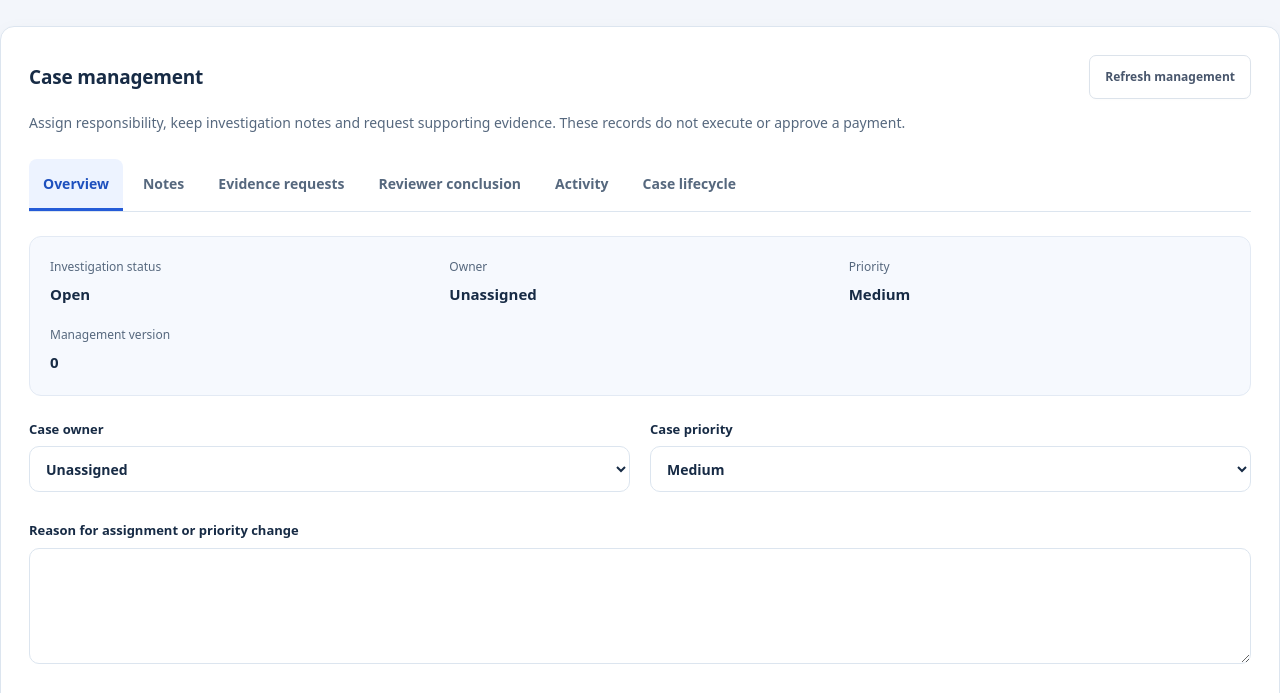
payment case management › requires a saved evidence version when fulfilling a request
Check: the text "Unassigned" is shown, box [449, 284, 537, 304]
Click the tab "Evidence requests". click: (281, 185)
box: [204, 159, 358, 211]
(page scrolled)
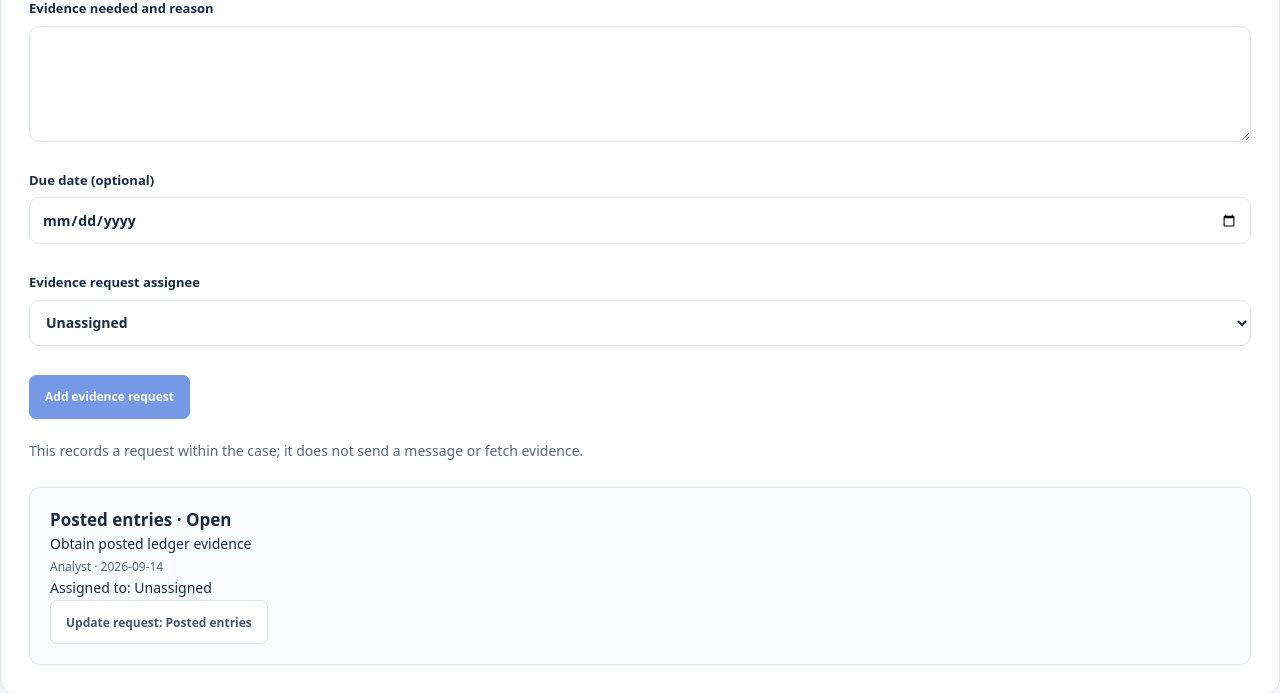
Click the button "Update request: Posted entries". click: (159, 622)
box: [50, 600, 268, 644]
(page scrolled)
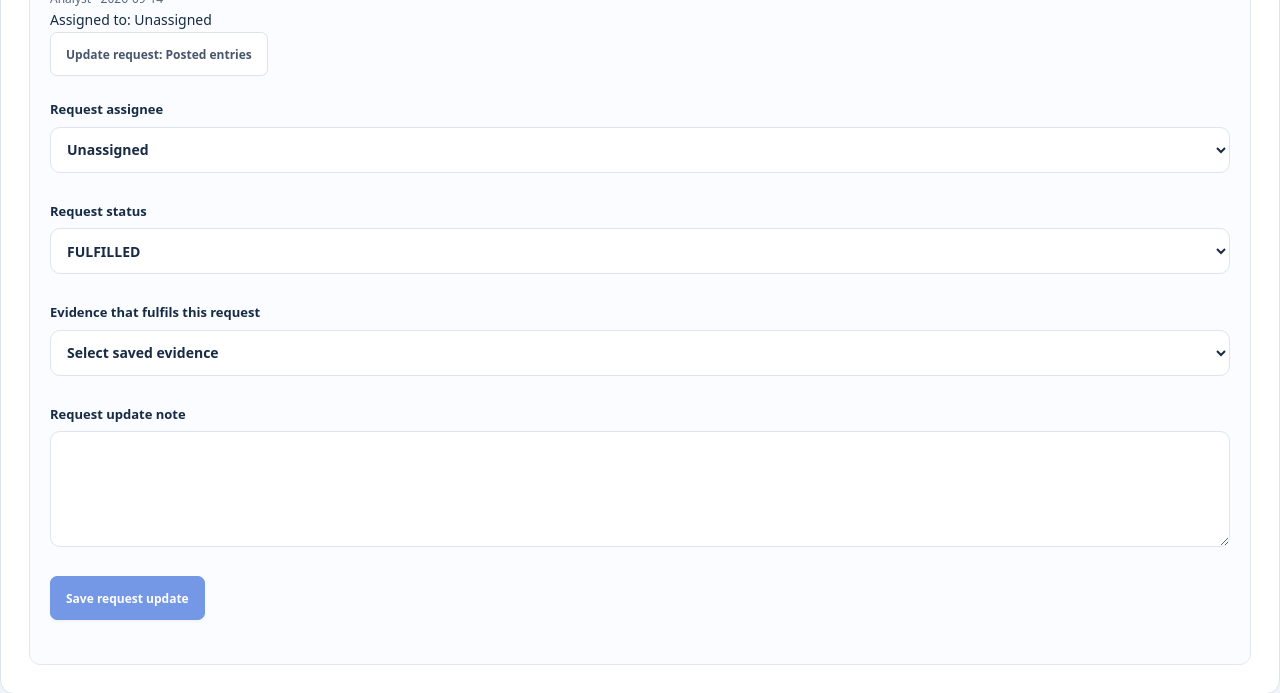
Type "Attached the supplied records" into the text box labelled "Request update note". click: (640, 489)
box: [50, 431, 1230, 547]
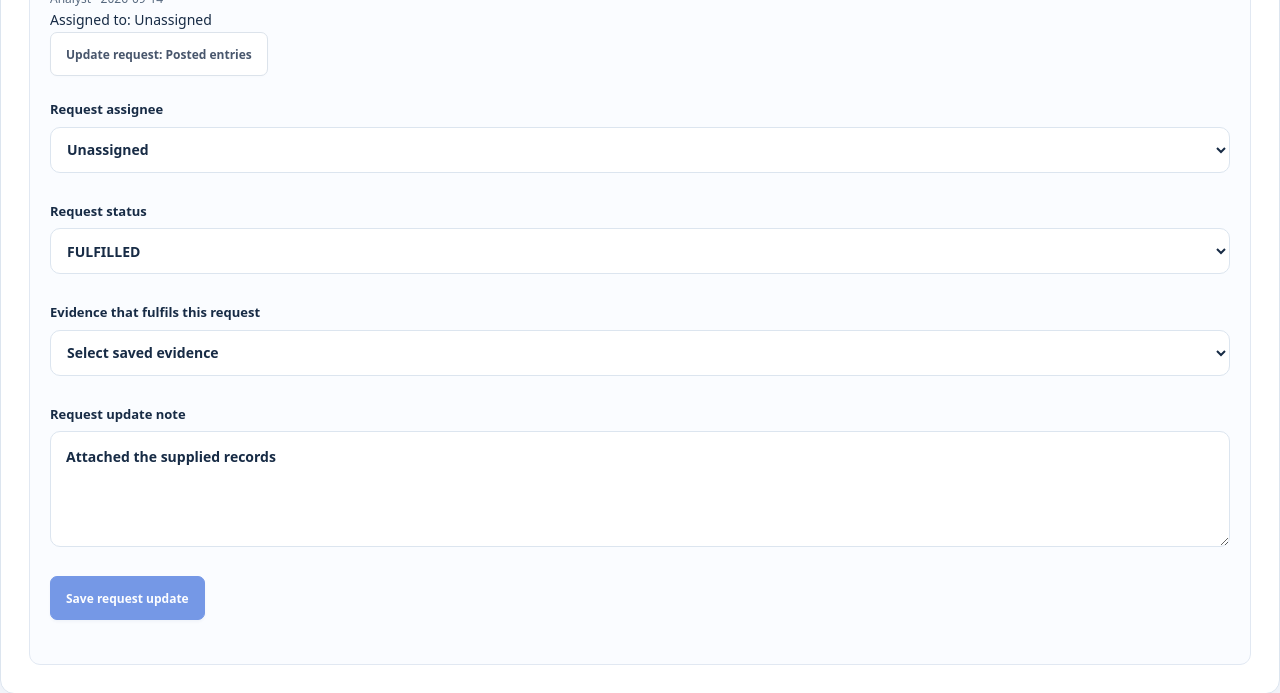
Check: the button "Save request update" is disabled, box [50, 576, 205, 620]
Select "Version 1 · EV-1" in the dropdown labelled "Evidence that fulfils this request". click: (640, 353)
box: [50, 330, 1230, 376]
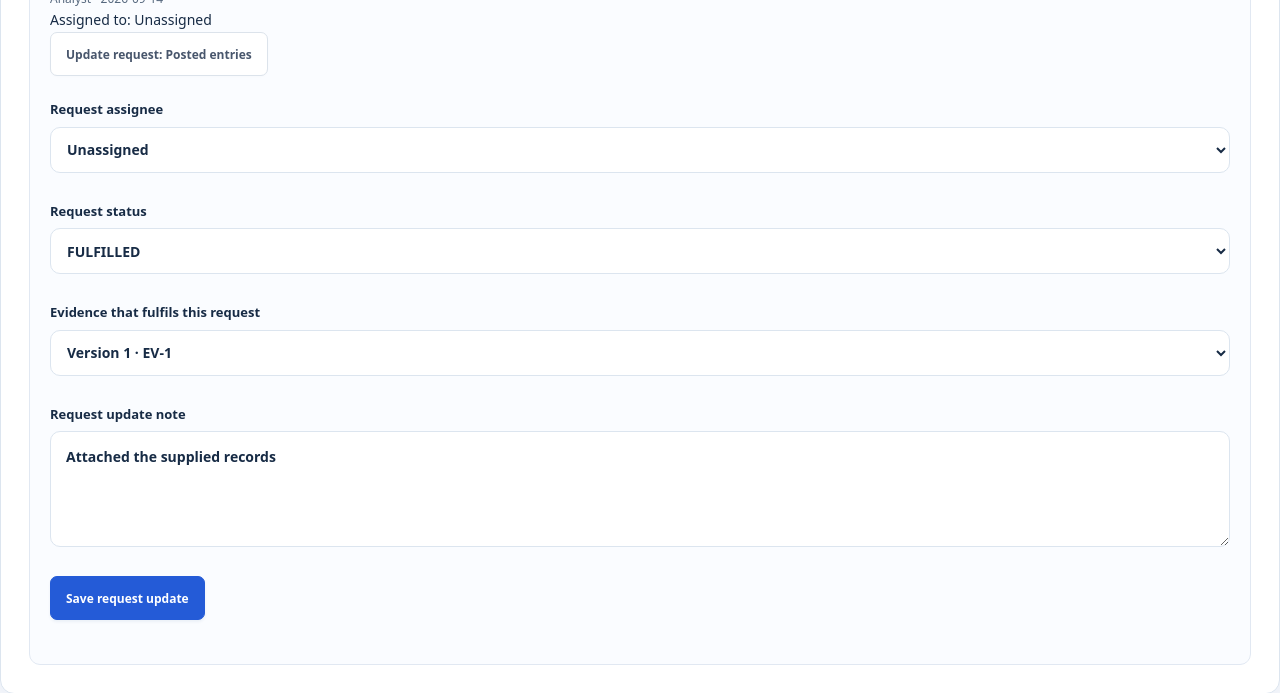
Click the button "Save request update". click: (127, 598)
box: [50, 576, 205, 620]
(page scrolled)
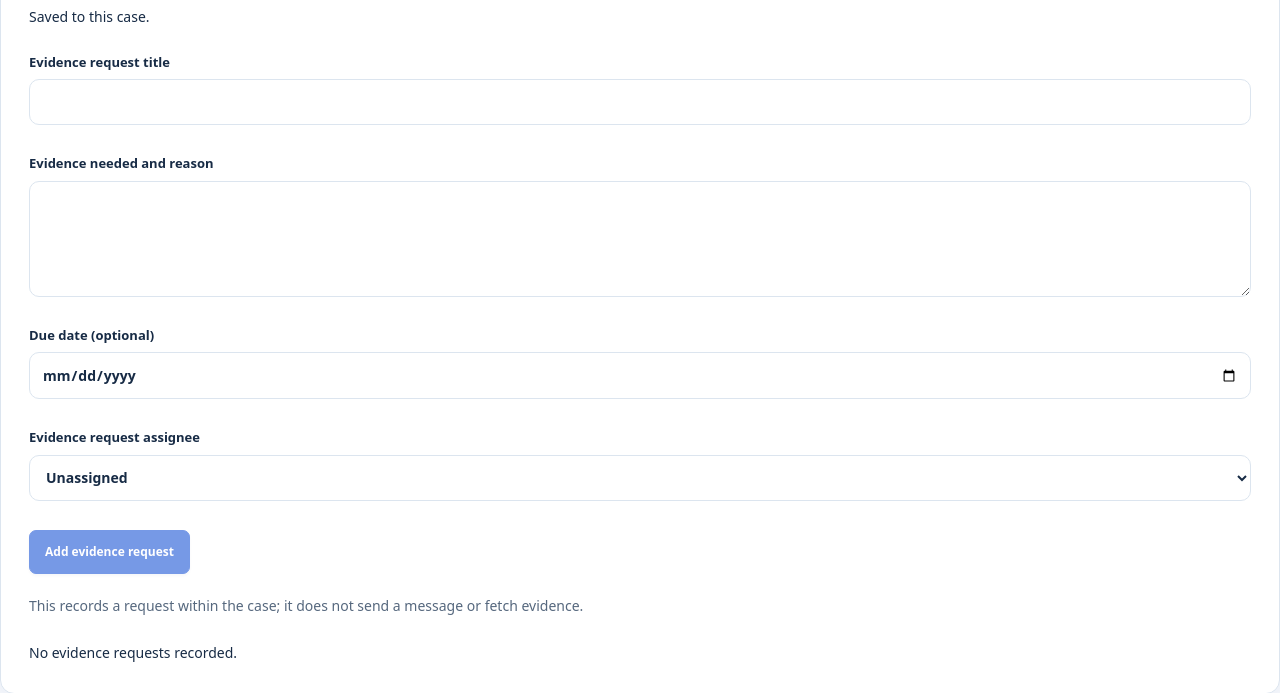
Check: the text "Saved to this case." is shown, box [29, 7, 150, 26]
